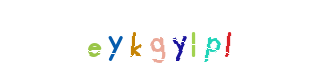1: (120, 0, 200, 80)
E: (93, 0, 173, 80)
G: (114, 0, 194, 80)
K: (107, 0, 187, 80)
L: (188, 0, 268, 80)
P: (171, 0, 251, 80)
Y: (94, 0, 174, 80), (116, 0, 196, 80)
